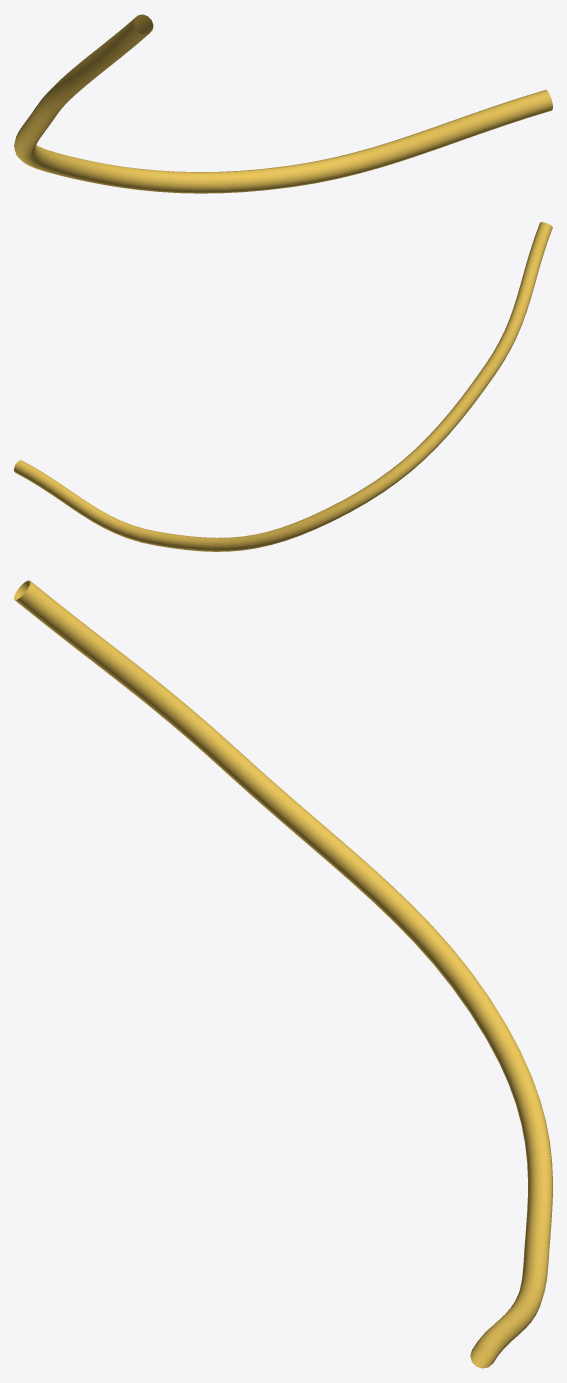
Rendered from Muscular_branches_axillary_nerve_right.glb.
3 renders of one model, top to bottom at view 1: azimuth 30°, elevation 25°; view 2: azimuth 150°, elevation 25°; view 3: azimuth 270°, elevation 25°, orthographic. The views are drawn at different scales.
Visible parts, largest first — view 1: Muscular_branches_of_axillary_nerve.r_BezierCurve.503; view 2: Muscular_branches_of_axillary_nerve.r_BezierCurve.503; view 3: Muscular_branches_of_axillary_nerve.r_BezierCurve.503.
Part boxes in pixels (x1,y1,x2,y2): Muscular_branches_of_axillary_nerve.r_BezierCurve.503: [14, 14, 552, 193]; Muscular_branches_of_axillary_nerve.r_BezierCurve.503: [14, 222, 552, 551]; Muscular_branches_of_axillary_nerve.r_BezierCurve.503: [14, 580, 552, 1368].
Size of the model in its own units: 0.0335 by 0.0215 by 0.0215.
